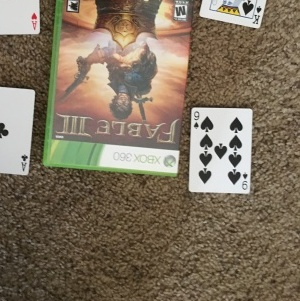card: (186, 106, 253, 195)
